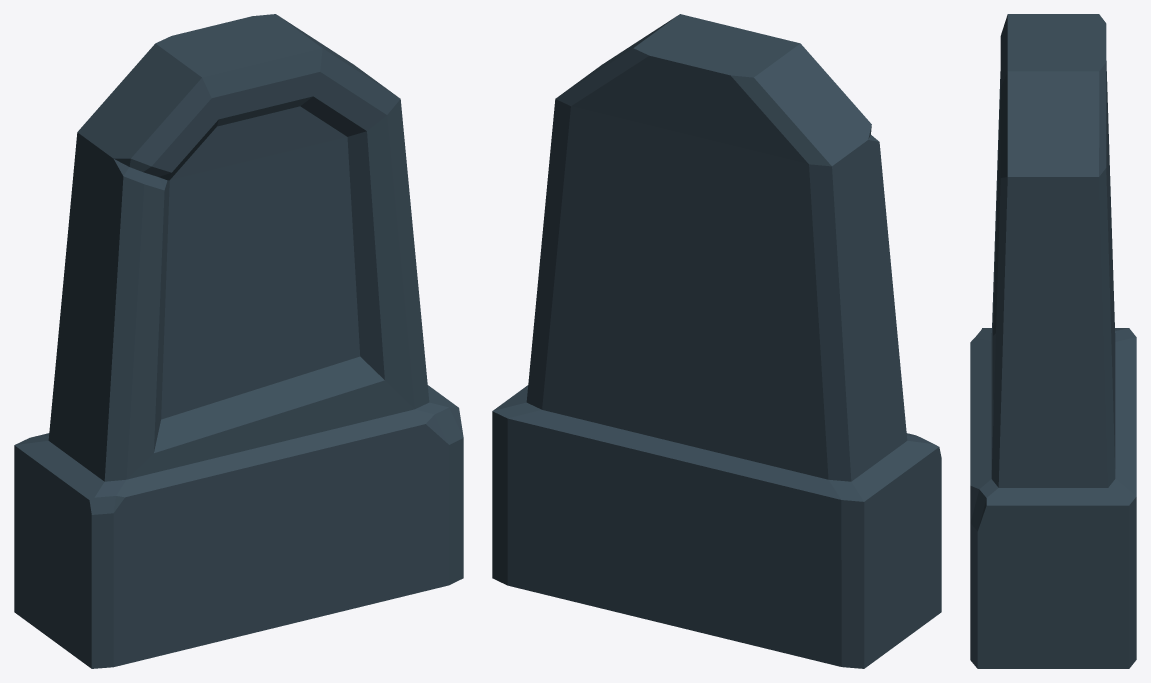
Rendered from Grave_3.fbx.
3 renders of one model, left to right at view 1: azimuth 30°, elevation 25°; view 2: azimuth 150°, elevation 25°; view 3: azimuth 270°, elevation 25°, orthographic. The views are drawn at different scales.
Parts seen in each view (by area): view 1: Grave 3; view 2: Grave 3; view 3: Grave 3.
Boxes of the visible parts, <box> form: Grave 3: <box>14,14,463,668</box>; Grave 3: <box>492,14,941,668</box>; Grave 3: <box>970,14,1136,668</box>.
Bounding box in the file's own units: 127 × 179 × 50.12.
